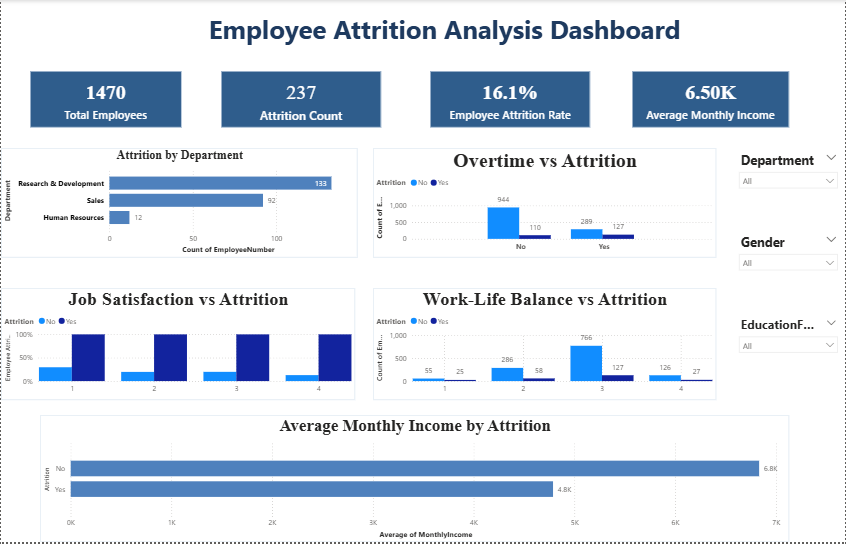

This screenshot's page, from the dashboard's own definition file:
{"tool":"powerbi","page":{"name":"Page 1","canvas":[1400,900],"ordinal":0},"visuals":[{"type":"card","fields":{"Values":["Sum(WA_Fn_UseC__HR_Employee_Attrition.EmployeeCount)"]},"box":[47.8,117.6,251.7,93.7],"z":0},{"type":"card","fields":{"Values":["CountNonNull(WA_Fn_UseC__HR_Employee_Attrition.Attrition)"]},"box":[365.6,117.6,266.4,93.7],"z":1000},{"type":"card","fields":{"Values":["WA_Fn_UseC__HR_Employee_Attrition.Employee Attrition Rate"]},"box":[712.9,117.6,266.4,93.7],"z":2000},{"type":"card","fields":{"Values":["Avg(WA_Fn_UseC__HR_Employee_Attrition.MonthlyIncome)"]},"box":[1047.2,117.6,260.9,93.7],"z":3000},{"type":"clusteredBarChart","title":"Attrition by Department","fields":{"Category":["WA_Fn_UseC__HR_Employee_Attrition.Department"],"Y":["CountNonNull(WA_Fn_UseC__HR_Employee_Attrition.EmployeeNumber)"]},"box":[0,246.2,591.6,181.9],"z":4000},{"type":"clusteredColumnChart","title":"Overtime vs Attrition","fields":{"Category":["WA_Fn_UseC__HR_Employee_Attrition.OverTime"],"Y":["CountNonNull(WA_Fn_UseC__HR_Employee_Attrition.EmployeeNumber)"],"Series":["WA_Fn_UseC__HR_Employee_Attrition.Attrition"]},"box":[617.3,246.2,569.6,181.9],"z":5000},{"type":"clusteredColumnChart","title":"Job Satisfaction vs Attrition","fields":{"Category":["WA_Fn_UseC__HR_Employee_Attrition.JobSatisfaction"],"Y":["WA_Fn_UseC__HR_Employee_Attrition.Employee Attrition Rate"],"Series":["WA_Fn_UseC__HR_Employee_Attrition.Attrition"]},"box":[0,477.7,587.9,185.6],"z":6000},{"type":"clusteredColumnChart","title":"Work-Life Balance vs Attrition","fields":{"Series":["WA_Fn_UseC__HR_Employee_Attrition.Attrition"],"Category":["WA_Fn_UseC__HR_Employee_Attrition.WorkLifeBalance"],"Y":["CountNonNull(WA_Fn_UseC__HR_Employee_Attrition.EmployeeNumber)"]},"box":[617.3,477.7,569.6,185.6],"z":7000},{"type":"clusteredBarChart","title":"Average Monthly Income by Attrition","fields":{"Category":["WA_Fn_UseC__HR_Employee_Attrition.Attrition"],"Y":["Avg(WA_Fn_UseC__HR_Employee_Attrition.MonthlyIncome)"]},"box":[64.3,689,1243.8,211.3],"z":8000},{"type":"textbox","box":[268.2,12.9,935.2,88.2],"z":9000},{"type":"slicer","fields":{"Values":["WA_Fn_UseC__HR_Employee_Attrition.Department"]},"box":[1216.3,246.2,183.7,77.2],"z":10000},{"type":"slicer","fields":{"Values":["WA_Fn_UseC__HR_Employee_Attrition.Gender"]},"box":[1216.3,382.2,183.7,68],"z":11000},{"type":"slicer","fields":{"Values":["WA_Fn_UseC__HR_Employee_Attrition.EducationField"]},"box":[1216.3,519.9,183.7,68],"z":12000}]}

Visuals, with their boxes in screenshot pixels (x1, y1, x2, y2), scaled from the page's 1400x900 canvas onto the 846x544 screenshot:
card - Sum(WA_Fn_UseC__HR_Employee_Attrition.EmployeeCount): x1=29, y1=71, x2=181, y2=128
card - CountNonNull(WA_Fn_UseC__HR_Employee_Attrition.Attrition): x1=221, y1=71, x2=382, y2=128
card - WA_Fn_UseC__HR_Employee_Attrition.Employee Attrition Rate: x1=431, y1=71, x2=592, y2=128
card - Avg(WA_Fn_UseC__HR_Employee_Attrition.MonthlyIncome): x1=633, y1=71, x2=790, y2=128
"Attrition by Department" clusteredBarChart: x1=0, y1=149, x2=357, y2=259
"Overtime vs Attrition" clusteredColumnChart: x1=373, y1=149, x2=717, y2=259
"Job Satisfaction vs Attrition" clusteredColumnChart: x1=0, y1=289, x2=355, y2=401
"Work-Life Balance vs Attrition" clusteredColumnChart: x1=373, y1=289, x2=717, y2=401
"Average Monthly Income by Attrition" clusteredBarChart: x1=39, y1=416, x2=790, y2=543
textbox: x1=162, y1=8, x2=727, y2=61
slicer - WA_Fn_UseC__HR_Employee_Attrition.Department: x1=735, y1=149, x2=845, y2=195
slicer - WA_Fn_UseC__HR_Employee_Attrition.Gender: x1=735, y1=231, x2=845, y2=272
slicer - WA_Fn_UseC__HR_Employee_Attrition.EducationField: x1=735, y1=314, x2=845, y2=355
